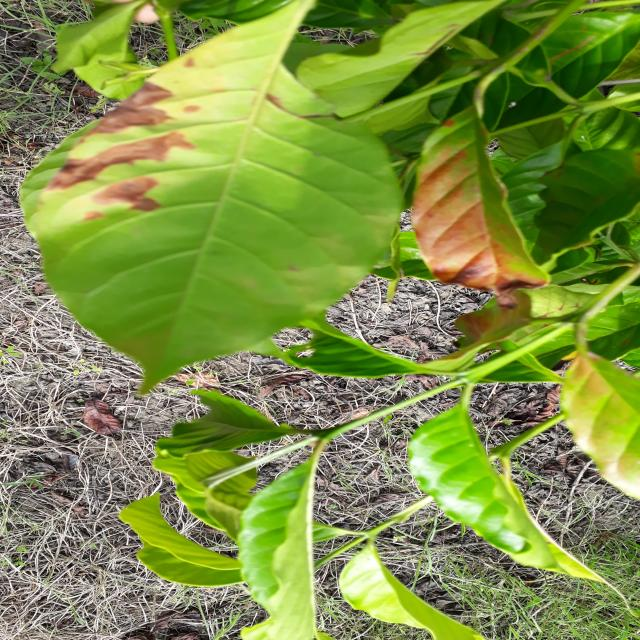Plaga-AranaRoja: (22, 0, 429, 395)
